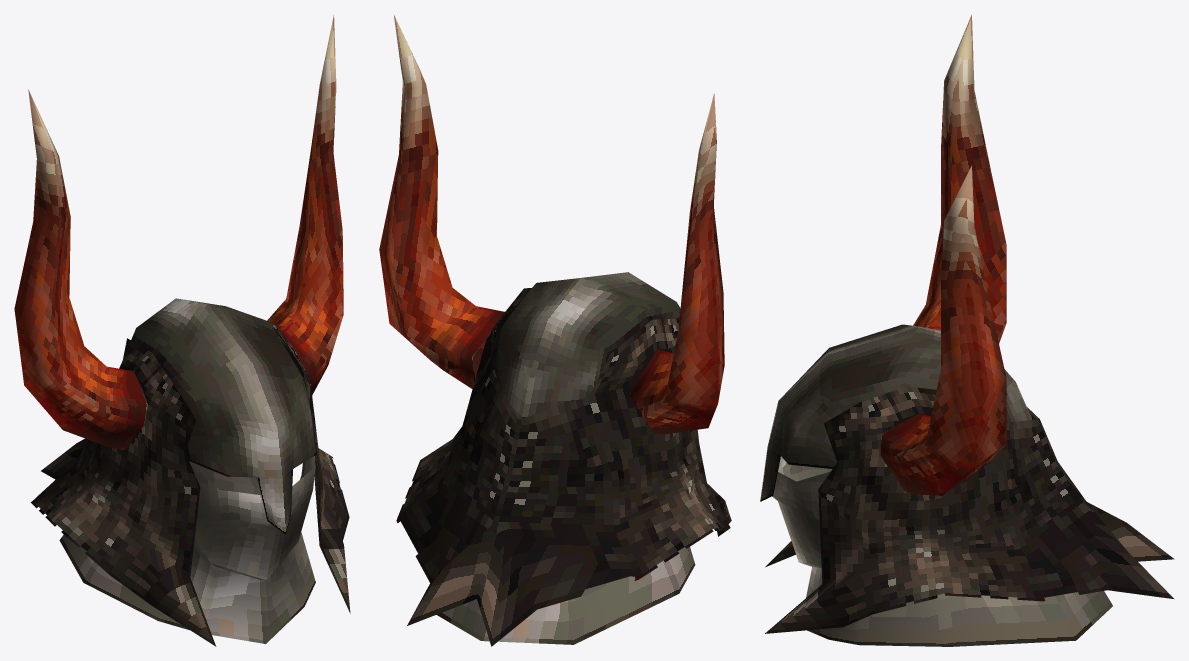
File: m_hair046.glb
3 renders of one model, left to right at view 1: azimuth 30°, elevation 25°; view 2: azimuth 150°, elevation 25°; view 3: azimuth 270°, elevation 25°, orthographic. The views are drawn at different scales.
Size of the model in its own units: 33.68 by 53.05 by 37.06.
Materials: 1 (1 with a texture image).
